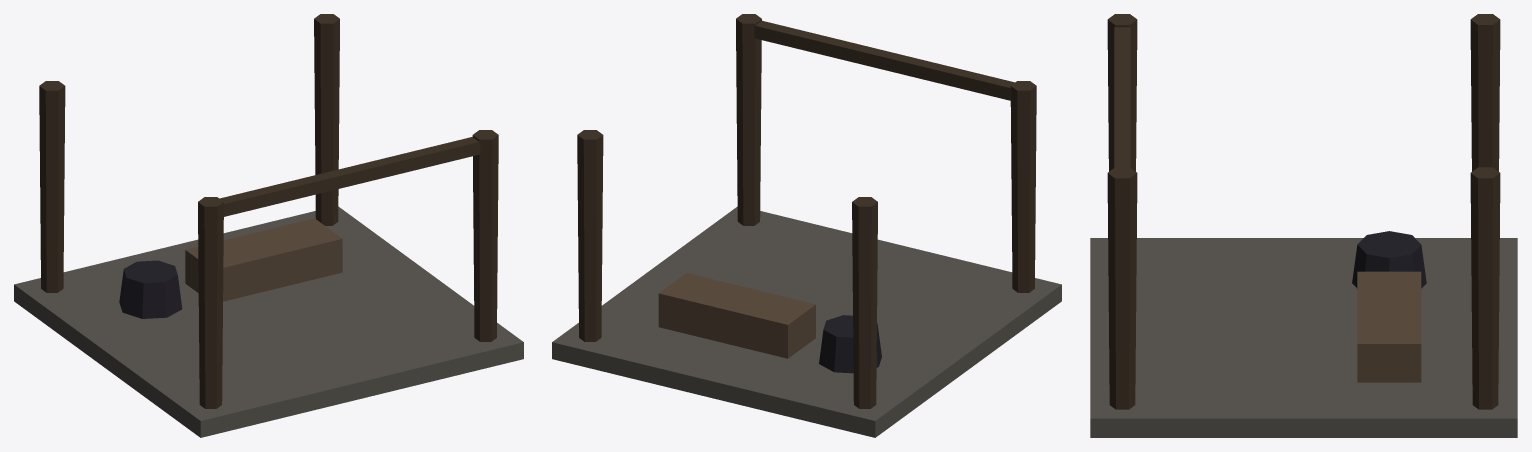
Rendered from s2_ferry_inn_site.glb.
The picture shows the model from 3 angles, left to right: view 1: azimuth 30°, elevation 25°; view 2: azimuth 150°, elevation 25°; view 3: azimuth 270°, elevation 25°; orthographic projection. The views are drawn at different scales.
Visible parts, largest first — view 1: s2_ferry_inn_site; view 2: s2_ferry_inn_site; view 3: s2_ferry_inn_site.
Part boxes in pixels (x1,y1,x2,y2): s2_ferry_inn_site: (14,14,523,437); s2_ferry_inn_site: (552,14,1061,437); s2_ferry_inn_site: (1090,14,1517,437).
Bounding box in the file's own units: 4 × 2.6 × 4.
